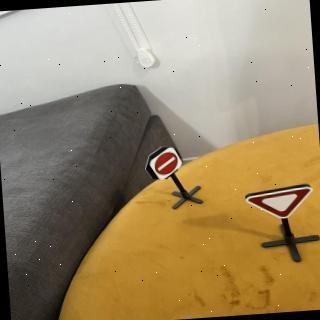sign_noentry: (148, 145, 186, 182)
sign_yield: (244, 185, 317, 223)
